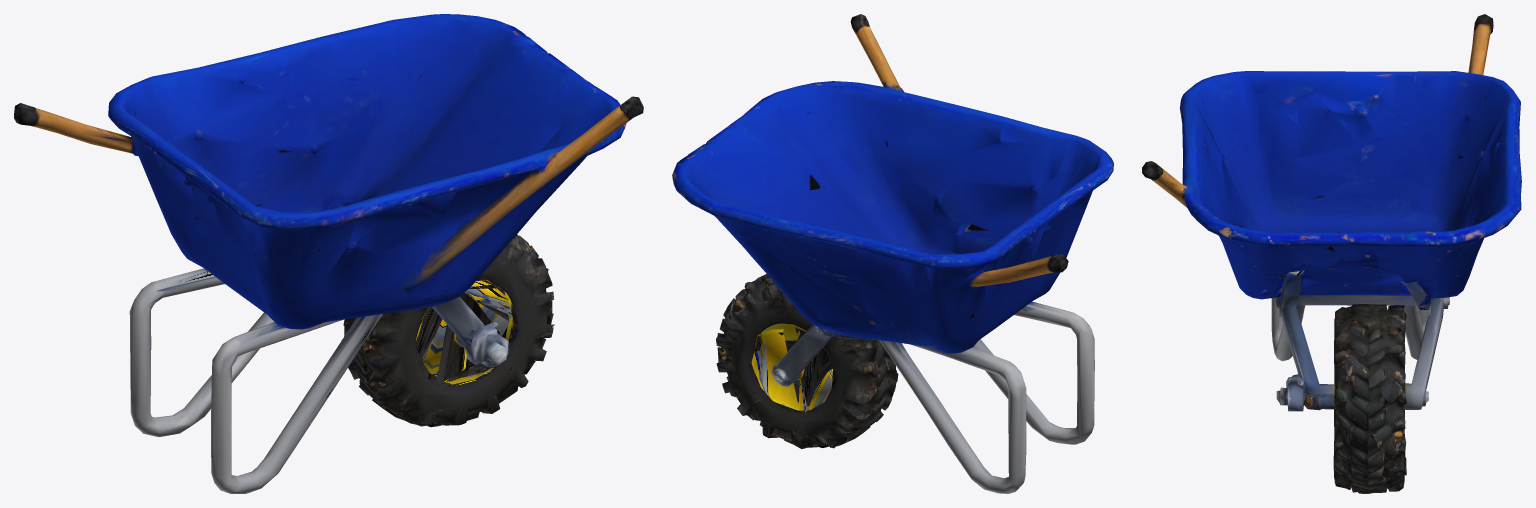
File: el_arabasi_lod1.glb
3 views of the same model, side by side, from view 1: azimuth 30°, elevation 25°; view 2: azimuth 150°, elevation 25°; view 3: azimuth 270°, elevation 25° (orthographic). The views are drawn at different scales.
Visible parts, largest first — view 1: el_arabasi_lod1; view 2: el_arabasi_lod1; view 3: el_arabasi_lod1.
Boxes of the visible parts, x1=… form: el_arabasi_lod1: x1=14, y1=14, x2=643, y2=493; el_arabasi_lod1: x1=672, y1=14, x2=1113, y2=493; el_arabasi_lod1: x1=1142, y1=14, x2=1521, y2=493.
Bounding box in the file's own units: 1.08 × 0.8496 × 0.836.
3 materials, 3 textured.
